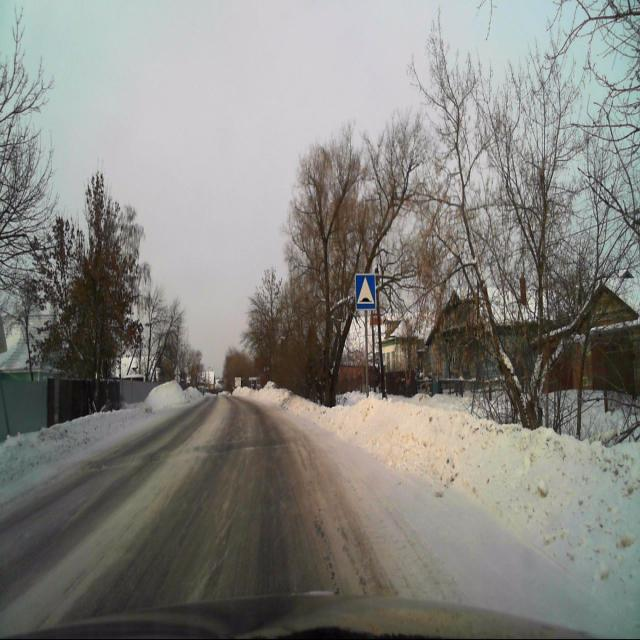road sign: (356, 273, 376, 309)
